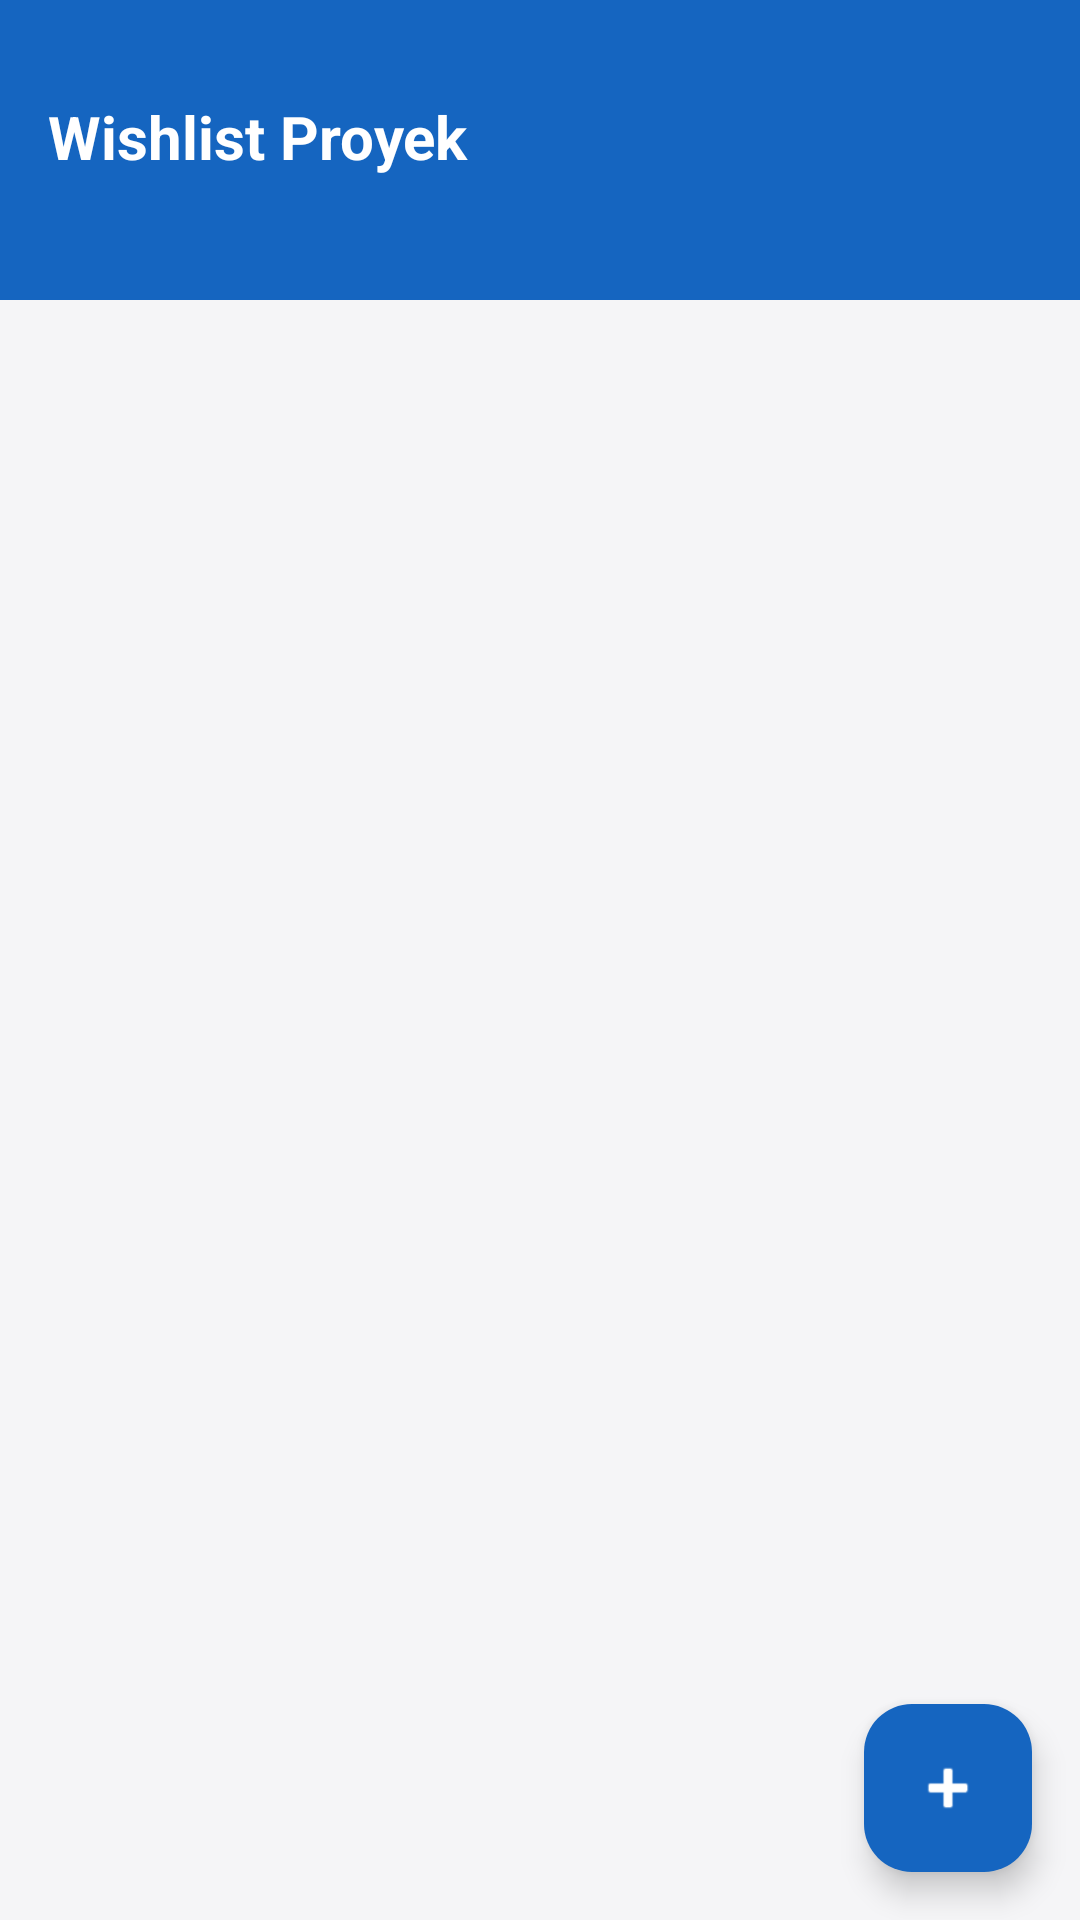

Icon bounding boxes for this 1080x1920 phone screenshot, format (x1=x1, y1=y1, x2=x2, y2=y2):
Tambah Wishlist: (x1=864, y1=1704, x2=1032, y2=1872)
